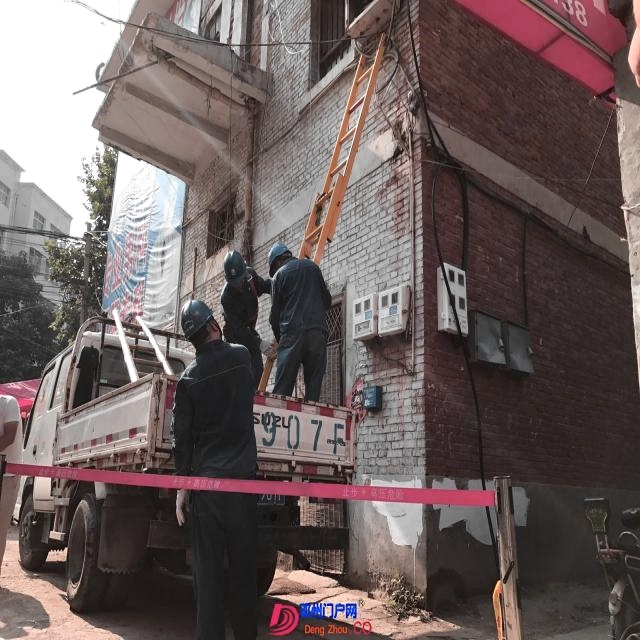Sin_Chaleco: (181, 345, 252, 474), (277, 259, 328, 332)
